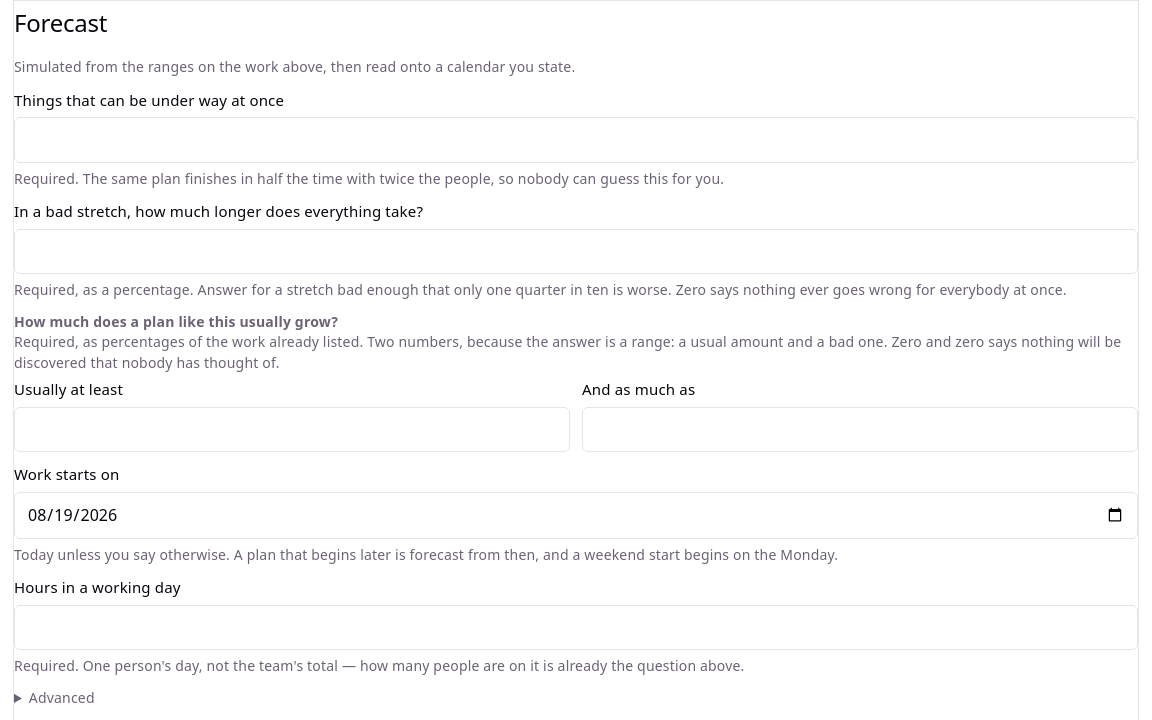
Scenario: ForecastPanel › shows a refused start date against the start date box
Expected: the heading "Forecast" is shown, 14,6 -> 107,39
Clear the date field labelled "Work starts on" at (576, 515), box 14,492 -> 1138,539
(page scrolled)
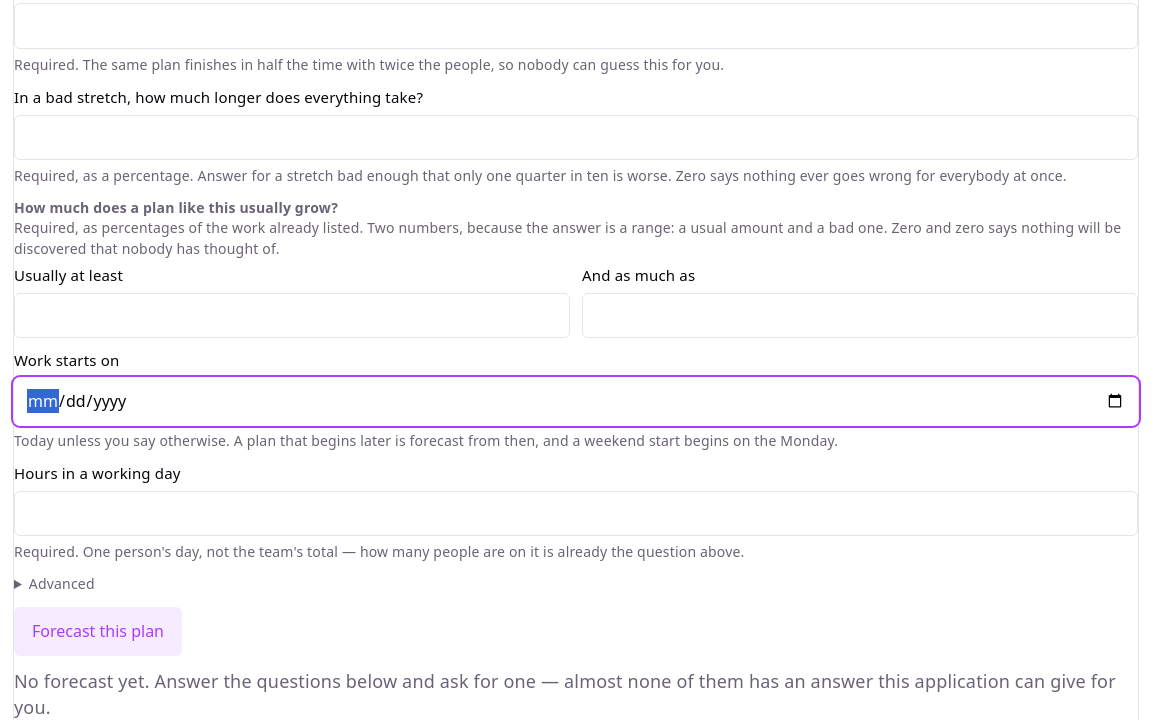
Click the button "Forecast this plan" at (98, 631), box 14,607 -> 182,656
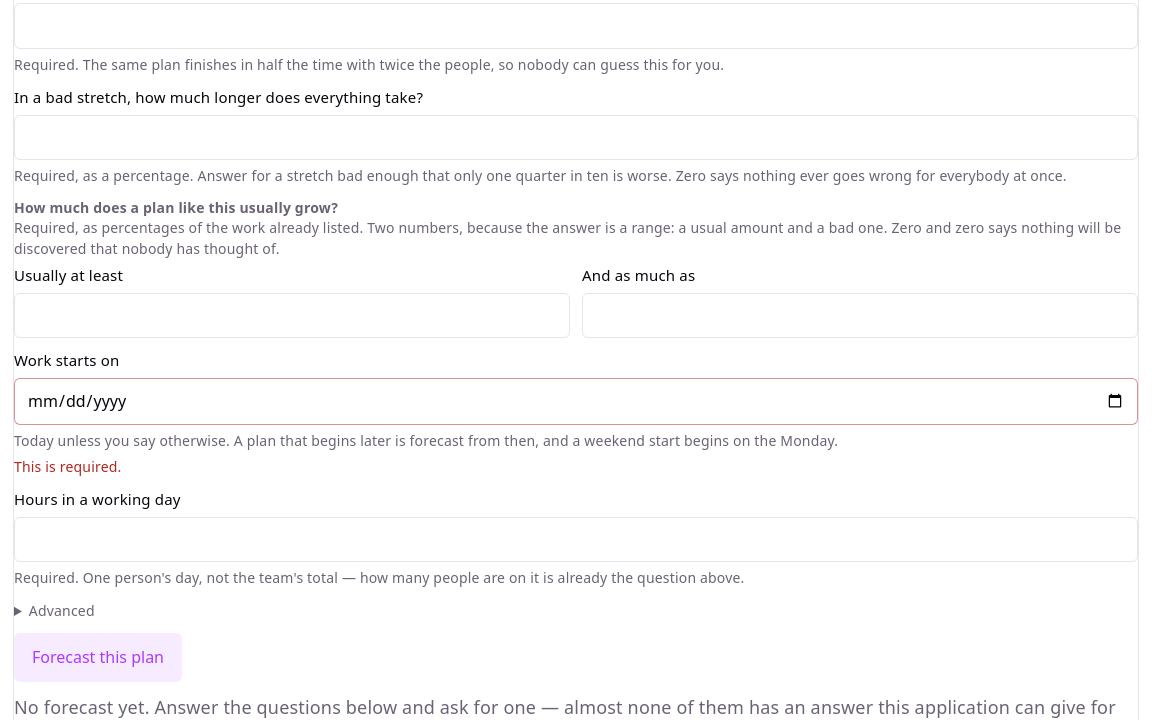
Expected: the text "This is required." is shown, 14,457 -> 122,476
